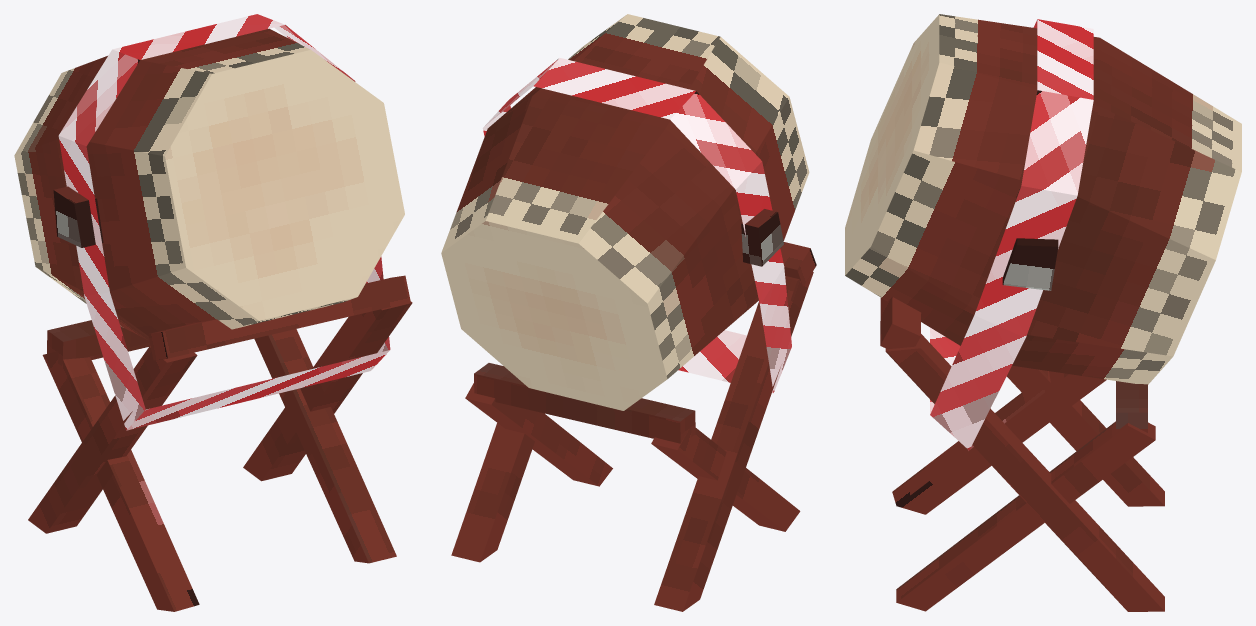
Rendered from taiko.glb.
The picture shows the model from 3 angles, left to right: view 1: azimuth 30°, elevation 25°; view 2: azimuth 150°, elevation 25°; view 3: azimuth 270°, elevation 25°; orthographic projection. The views are drawn at different scales.
Parts seen in each view (by area): view 1: taiko; view 2: taiko; view 3: taiko.
Part boxes in pixels (bbox=[...]): taiko: bbox=[14, 14, 412, 611]; taiko: bbox=[441, 14, 816, 611]; taiko: bbox=[845, 14, 1241, 611].
Size of the model in its own units: 0.766 by 1.27 by 0.8797.
Materials: 1 (1 with a texture image).
